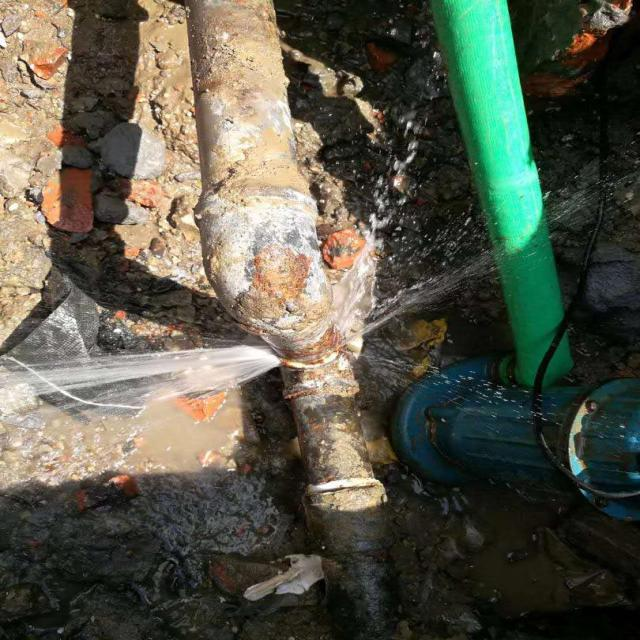leak: (0, 345, 280, 418), (332, 231, 493, 344)
